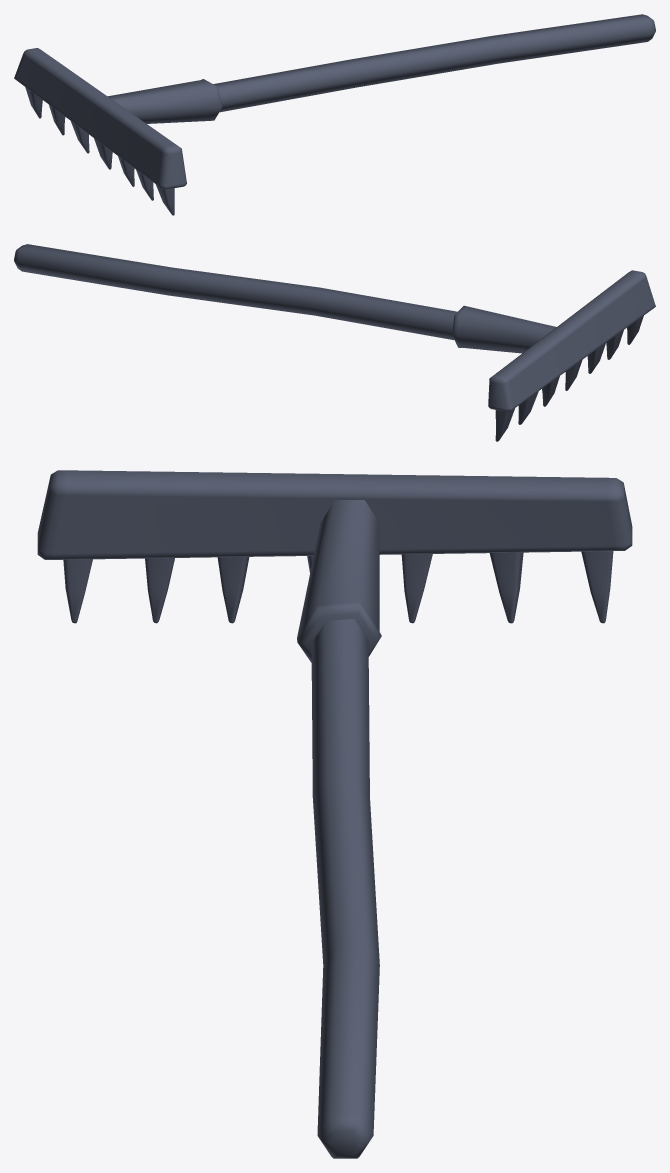
File: Rake.FBX
3 renders of one model, top to bottom at view 1: azimuth 30°, elevation 25°; view 2: azimuth 150°, elevation 25°; view 3: azimuth 270°, elevation 25°, orthographic. The views are drawn at different scales.
Parts seen in each view (by area): view 1: Rake; view 2: Rake; view 3: Rake.
Boxes of the visible parts, <box> form: Rake: <box>14,14,655,215</box>; Rake: <box>14,244,655,441</box>; Rake: <box>37,470,632,1158</box>.
Size of the model in its own units: 115 by 15.07 by 52.49.
